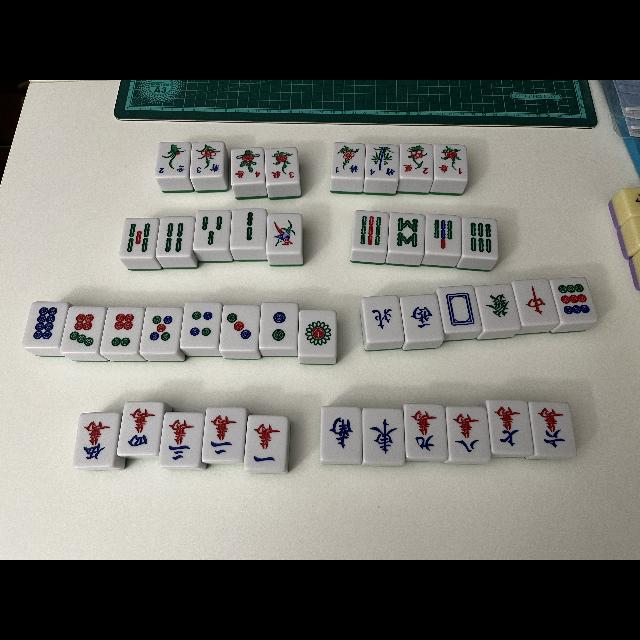b1: (268, 214, 302, 254)
b2: (230, 210, 266, 248)
b3: (195, 210, 229, 250)
b4: (156, 218, 192, 256)
b5: (120, 218, 156, 258)
b6: (462, 217, 498, 259)
b7: (426, 215, 460, 255)
b8: (390, 212, 424, 254)
b9: (352, 210, 388, 252)
c1: (245, 415, 288, 471)
c2: (203, 407, 245, 461)
c3: (160, 412, 202, 466)
c4: (118, 401, 162, 455)
c5: (74, 412, 116, 468)
c6: (530, 402, 576, 456)
c7: (487, 401, 533, 454)
c8: (446, 406, 492, 460)
c9: (404, 404, 446, 458)
d1: (298, 310, 336, 356)
d2: (260, 304, 298, 348)
d3: (221, 306, 259, 350)
d4: (180, 302, 220, 348)
d5: (141, 308, 179, 354)
d6: (102, 308, 142, 354)
d7: (63, 306, 101, 352)
d8: (23, 302, 65, 348)
d9: (550, 278, 598, 322)
dg: (475, 284, 519, 330)
dr: (512, 280, 558, 324)
dw: (438, 286, 480, 332)
f1: (332, 162, 364, 178)
f2: (157, 164, 189, 176)
f3: (190, 161, 223, 177)
f4: (366, 167, 398, 180)
s1: (434, 162, 468, 180)
s2: (400, 162, 432, 178)
s3: (266, 169, 300, 183)
s4: (232, 169, 264, 185)
we: (363, 409, 405, 463)
wn: (362, 296, 403, 342)
ws: (321, 406, 362, 462)
ww: (400, 295, 444, 341)
